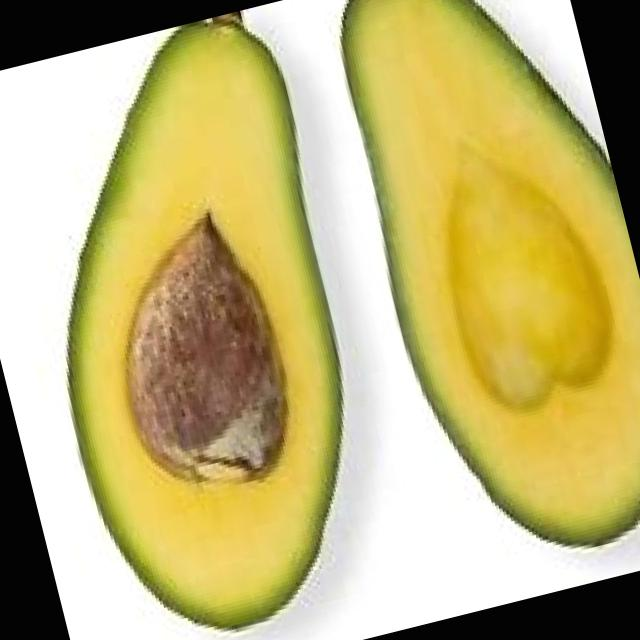avocado: (0, 2, 416, 640), (299, 0, 640, 590)
